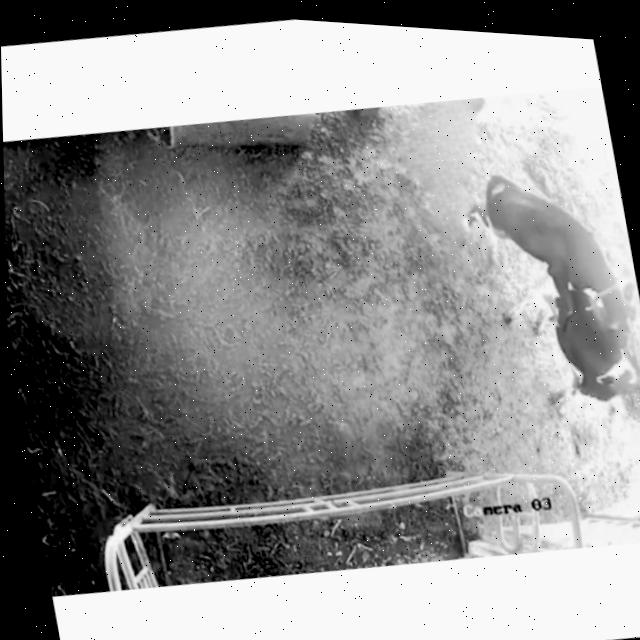ride: (453, 141, 640, 363)
